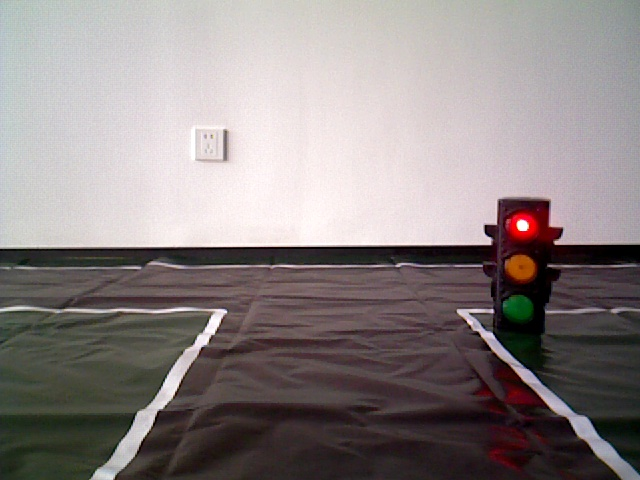red: (487, 201, 548, 328)
